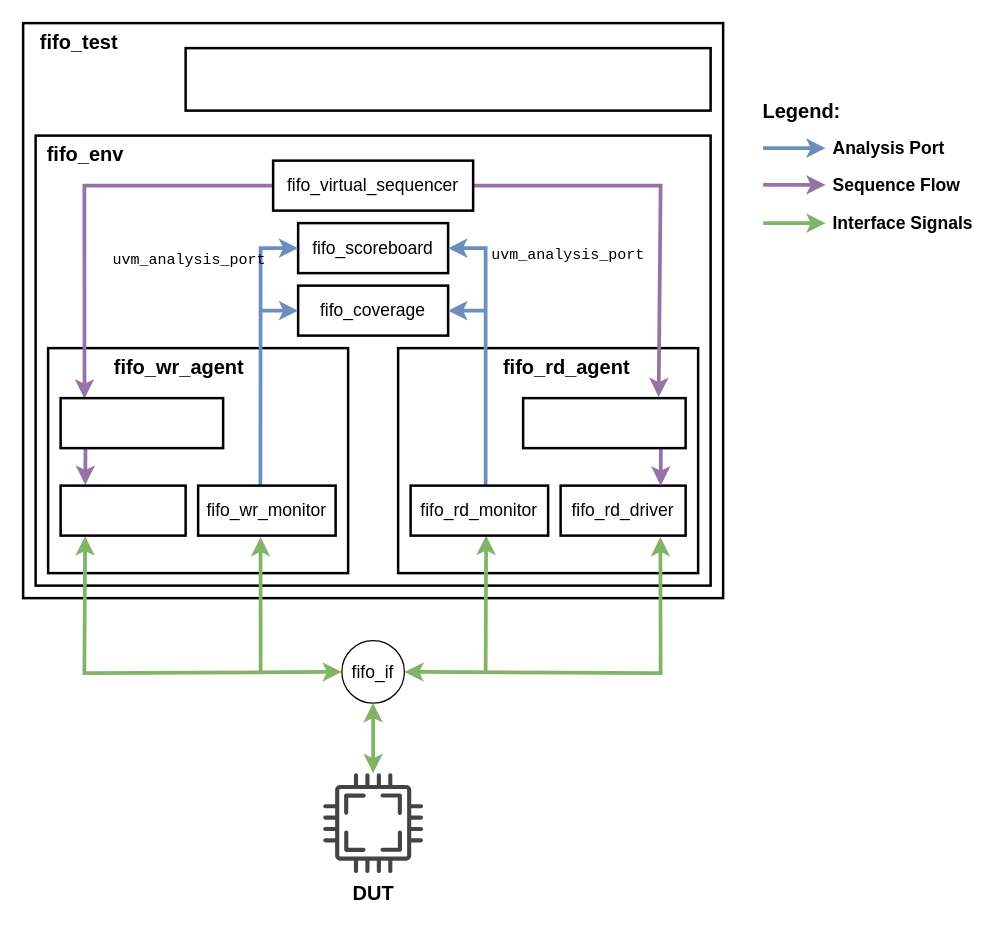
Some shapes in this 1006 by 926 pixel diagram are drawn without their labels. Each missing label, with the centre of its shape:
"fifo_rd_sequencer" belongs at point (603, 422).
"fifo_wr_driver" belongs at point (122, 510).
"fifo_wr_sequencer" belongs at point (141, 422).
"virtual sequences (fifo_ * _vseq)" belongs at point (447, 78).
